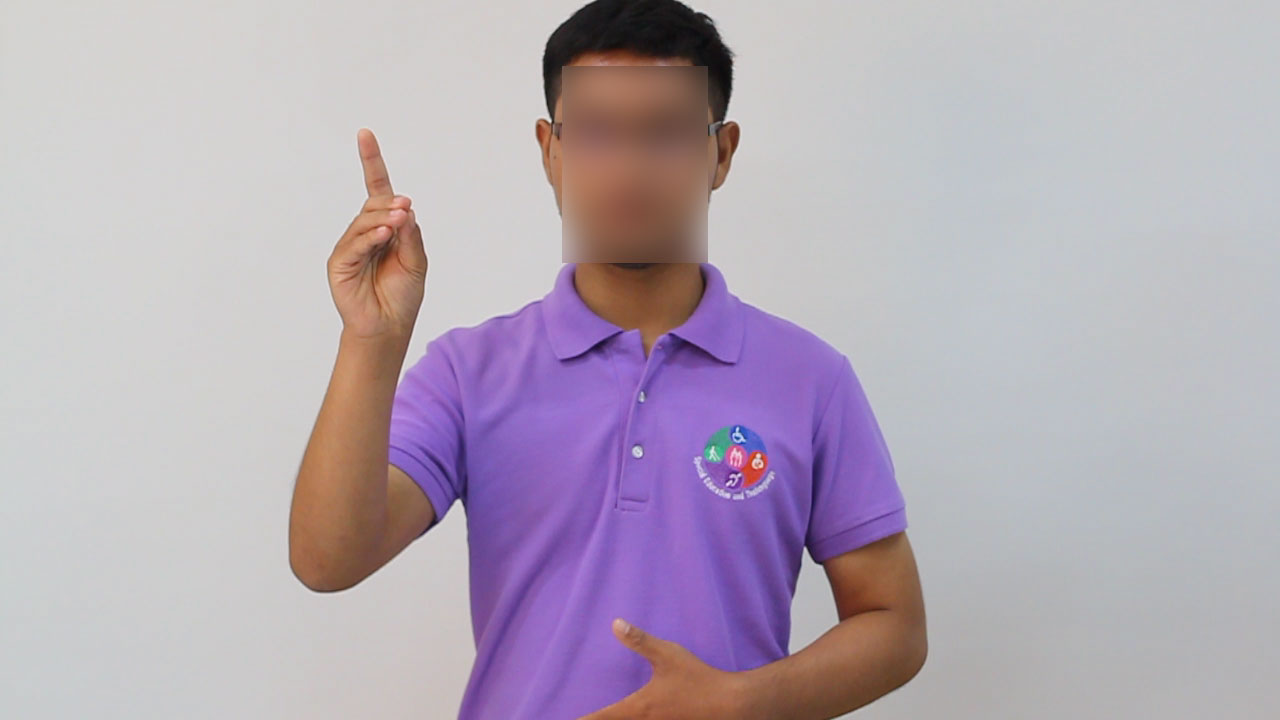dor: (319, 119, 432, 355)
